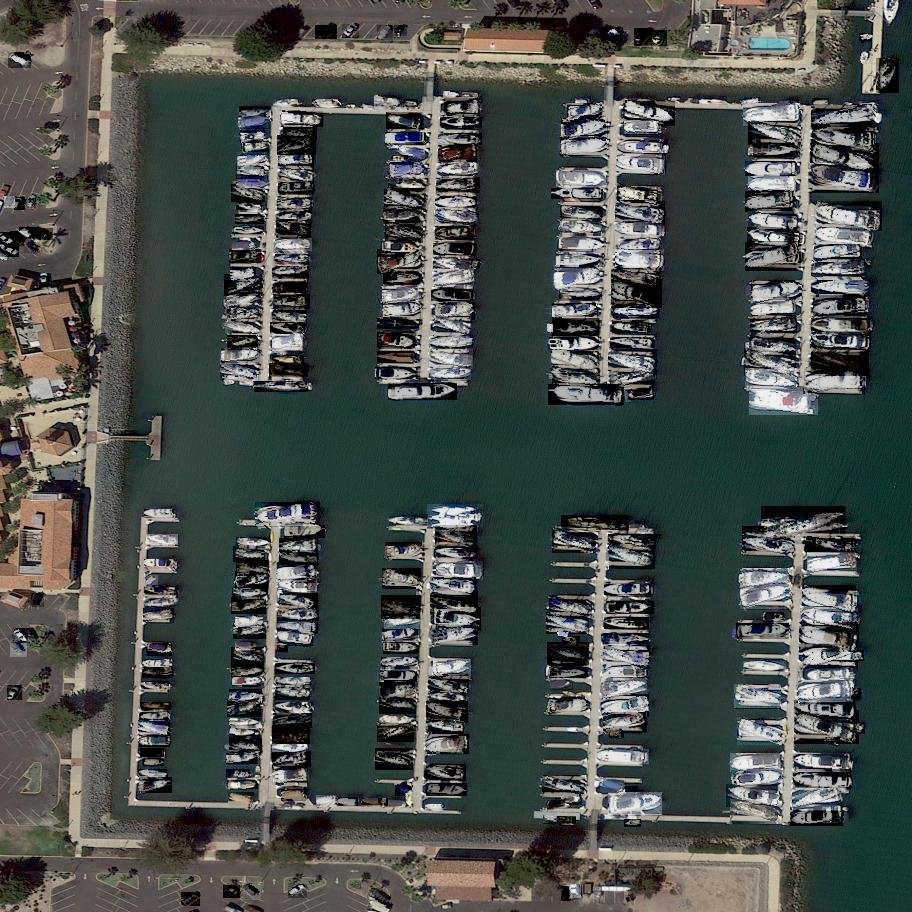large-vehicle: (8, 53, 31, 71)
ship: (760, 507, 849, 545), (794, 710, 859, 745), (808, 163, 880, 194), (811, 143, 880, 175), (814, 201, 883, 231), (749, 387, 819, 416), (799, 621, 859, 653), (802, 585, 858, 617), (811, 347, 870, 377), (813, 125, 876, 153), (549, 384, 625, 407), (802, 640, 859, 670), (811, 105, 876, 131), (744, 242, 802, 271), (804, 367, 866, 394), (255, 503, 321, 527), (743, 103, 802, 129), (611, 280, 662, 310), (623, 100, 676, 128), (744, 348, 797, 376), (802, 606, 859, 632), (740, 582, 792, 610), (792, 784, 842, 812), (551, 347, 600, 375), (737, 717, 786, 745), (553, 265, 603, 292), (748, 122, 802, 147), (726, 784, 780, 809), (608, 792, 663, 816), (798, 681, 855, 704), (601, 644, 651, 670), (734, 684, 782, 711), (615, 249, 666, 274), (609, 349, 658, 375), (730, 799, 780, 824), (748, 227, 802, 250), (794, 700, 856, 720), (427, 505, 483, 527), (612, 267, 663, 291), (807, 552, 860, 575), (377, 249, 422, 276), (616, 201, 666, 225), (811, 333, 871, 353), (600, 694, 650, 718), (751, 281, 803, 304), (609, 546, 656, 571), (552, 528, 597, 554), (742, 534, 795, 556), (434, 608, 482, 632), (745, 368, 797, 390), (812, 260, 868, 280), (617, 153, 667, 175), (814, 242, 864, 264), (388, 384, 456, 400), (813, 296, 867, 316), (549, 595, 594, 619), (749, 316, 798, 338), (742, 569, 791, 591), (430, 593, 479, 615), (548, 643, 591, 668), (745, 192, 796, 213), (793, 773, 852, 791), (791, 807, 844, 827), (561, 118, 609, 140), (750, 335, 798, 357), (384, 189, 426, 214), (749, 211, 798, 232), (817, 226, 871, 245), (381, 595, 422, 620), (562, 515, 630, 530), (601, 678, 649, 699), (542, 775, 587, 797), (546, 612, 589, 635), (435, 526, 478, 549), (610, 368, 657, 389), (795, 755, 852, 772), (561, 137, 609, 157), (749, 298, 797, 318), (811, 280, 871, 296), (436, 561, 484, 581), (730, 754, 780, 773), (426, 702, 469, 724), (429, 349, 474, 370), (603, 713, 648, 734), (431, 577, 478, 597), (431, 625, 478, 645), (805, 537, 857, 555), (385, 221, 424, 245), (552, 368, 601, 387), (220, 359, 260, 382), (223, 274, 263, 297), (428, 675, 471, 696), (276, 562, 317, 584), (730, 771, 783, 788), (618, 185, 660, 206), (435, 207, 479, 227), (377, 721, 417, 743), (382, 568, 422, 590), (556, 170, 607, 187), (748, 176, 796, 194), (433, 270, 476, 290), (375, 749, 414, 771), (553, 319, 600, 337), (438, 144, 478, 165), (425, 735, 469, 754), (876, 58, 899, 94), (278, 135, 317, 156), (435, 315, 472, 337), (737, 624, 790, 639), (596, 749, 649, 764), (552, 303, 598, 320), (380, 694, 417, 715), (424, 765, 467, 783), (608, 534, 656, 550), (434, 255, 474, 274), (436, 303, 476, 322), (385, 542, 425, 561), (433, 659, 473, 678), (276, 220, 312, 241), (812, 318, 870, 331), (615, 222, 665, 237), (281, 111, 325, 128), (384, 610, 423, 629), (388, 176, 429, 194), (560, 220, 603, 237), (560, 205, 603, 222), (745, 162, 797, 176), (378, 332, 418, 350), (602, 664, 647, 680), (436, 178, 480, 194), (254, 381, 308, 394), (272, 727, 311, 745), (227, 304, 262, 324), (231, 184, 266, 204), (382, 302, 423, 319), (614, 304, 660, 319), (618, 140, 667, 154), (226, 290, 262, 309), (444, 98, 480, 117), (548, 697, 588, 714), (231, 647, 265, 667), (560, 285, 602, 301), (430, 366, 472, 382), (386, 112, 423, 130), (437, 163, 481, 178), (227, 700, 263, 718), (272, 768, 308, 786), (618, 237, 661, 252), (273, 713, 313, 729), (272, 752, 312, 768), (280, 539, 320, 555), (390, 162, 425, 180), (277, 607, 319, 622), (235, 572, 270, 590), (379, 682, 416, 699), (430, 336, 474, 350), (567, 103, 603, 120), (231, 598, 267, 615), (606, 602, 653, 615), (382, 287, 420, 303), (549, 338, 599, 350), (280, 166, 315, 183), (272, 335, 305, 353), (431, 289, 473, 303), (807, 669, 852, 682), (269, 364, 308, 379), (221, 348, 260, 363), (438, 133, 483, 146), (279, 593, 318, 608), (236, 560, 270, 577), (139, 777, 173, 794), (139, 720, 171, 738), (275, 238, 313, 253), (273, 295, 311, 310), (429, 691, 467, 706), (551, 188, 602, 199), (229, 739, 262, 756), (272, 309, 307, 325), (279, 552, 319, 566), (278, 153, 315, 168), (753, 144, 799, 156), (284, 526, 326, 539), (233, 546, 265, 563), (278, 181, 314, 196), (604, 617, 649, 629), (376, 367, 417, 380), (426, 784, 467, 797), (612, 320, 650, 334), (233, 624, 266, 640), (277, 197, 312, 212), (228, 249, 263, 264), (435, 227, 475, 240), (428, 721, 465, 735), (602, 634, 649, 645), (610, 337, 653, 349), (143, 608, 175, 624), (237, 163, 267, 180), (381, 241, 420, 254), (278, 580, 317, 593), (556, 255, 602, 266), (559, 239, 605, 250), (225, 321, 261, 335), (433, 243, 475, 255), (275, 688, 311, 702), (277, 633, 313, 647), (605, 584, 650, 595), (624, 122, 659, 136), (377, 351, 417, 363), (437, 548, 477, 560), (232, 587, 268, 600), (229, 690, 265, 703), (382, 628, 418, 641), (237, 153, 268, 168), (242, 139, 271, 155), (378, 319, 420, 330), (549, 667, 587, 679), (271, 322, 306, 335), (283, 127, 318, 140), (277, 623, 318, 634), (239, 116, 271, 130), (272, 267, 309, 279), (383, 642, 420, 654), (382, 658, 419, 670), (436, 196, 476, 207), (385, 133, 425, 144), (275, 663, 315, 674), (743, 661, 786, 671), (440, 117, 482, 127), (383, 273, 421, 284), (227, 336, 259, 349), (397, 145, 426, 159), (239, 106, 270, 119), (279, 212, 312, 224), (276, 678, 312, 689), (138, 735, 171, 747), (236, 538, 272, 549), (230, 267, 256, 282), (600, 778, 626, 793), (228, 793, 254, 808), (272, 283, 307, 294), (230, 666, 265, 677), (146, 534, 178, 546), (142, 668, 174, 680), (240, 130, 266, 144), (145, 598, 181, 608), (384, 211, 420, 221), (381, 671, 417, 681), (629, 387, 656, 400), (375, 95, 402, 108), (227, 754, 258, 765), (147, 644, 173, 657), (395, 781, 416, 797), (235, 615, 263, 627), (389, 517, 426, 526), (379, 715, 415, 724), (235, 214, 264, 225), (139, 769, 168, 780), (281, 790, 307, 802), (237, 178, 268, 188), (139, 713, 169, 723), (232, 677, 262, 687), (273, 743, 306, 752), (275, 703, 312, 711), (272, 354, 304, 363), (227, 780, 258, 789), (315, 796, 338, 808), (618, 786, 639, 799), (236, 203, 263, 213), (276, 255, 309, 263), (145, 587, 177, 595), (141, 681, 169, 690), (231, 241, 256, 251), (233, 227, 264, 235), (142, 659, 169, 668), (763, 612, 785, 623), (144, 560, 174, 568), (140, 748, 165, 757), (226, 769, 251, 778), (229, 719, 260, 726), (547, 801, 571, 810), (562, 796, 583, 806), (144, 574, 158, 589), (235, 641, 256, 651), (230, 730, 260, 737), (550, 681, 573, 690), (144, 510, 173, 517), (140, 703, 171, 709), (742, 97, 760, 107), (339, 797, 359, 806), (143, 759, 164, 767), (562, 636, 580, 645), (543, 815, 559, 825), (313, 99, 339, 105), (860, 51, 872, 64), (362, 799, 388, 805), (742, 527, 764, 534), (813, 99, 830, 108), (624, 819, 642, 827), (273, 100, 296, 106), (860, 33, 875, 42), (403, 99, 419, 107), (443, 90, 458, 98), (558, 817, 576, 823), (853, 689, 862, 700), (858, 722, 866, 734), (856, 650, 864, 662), (472, 259, 481, 269), (277, 646, 289, 653), (609, 732, 624, 737), (426, 805, 443, 809), (393, 155, 408, 159), (827, 738, 839, 743), (559, 632, 570, 637), (547, 324, 553, 333)
small-vehicle: (368, 888, 392, 908), (634, 27, 653, 48), (19, 226, 40, 244), (315, 25, 337, 42), (11, 230, 30, 248), (244, 883, 262, 902), (12, 628, 30, 646), (33, 227, 53, 243), (652, 28, 667, 49), (602, 27, 623, 42), (182, 891, 200, 908), (7, 684, 23, 703), (288, 884, 307, 900), (377, 23, 393, 42), (11, 641, 28, 658), (342, 23, 360, 39), (0, 244, 19, 259), (25, 238, 41, 255), (0, 232, 17, 248), (223, 885, 241, 900), (31, 593, 44, 609), (24, 628, 37, 644), (561, 885, 574, 901), (394, 24, 407, 39), (39, 274, 51, 289), (571, 885, 583, 900), (15, 197, 26, 212), (5, 196, 16, 209), (28, 195, 37, 209)
